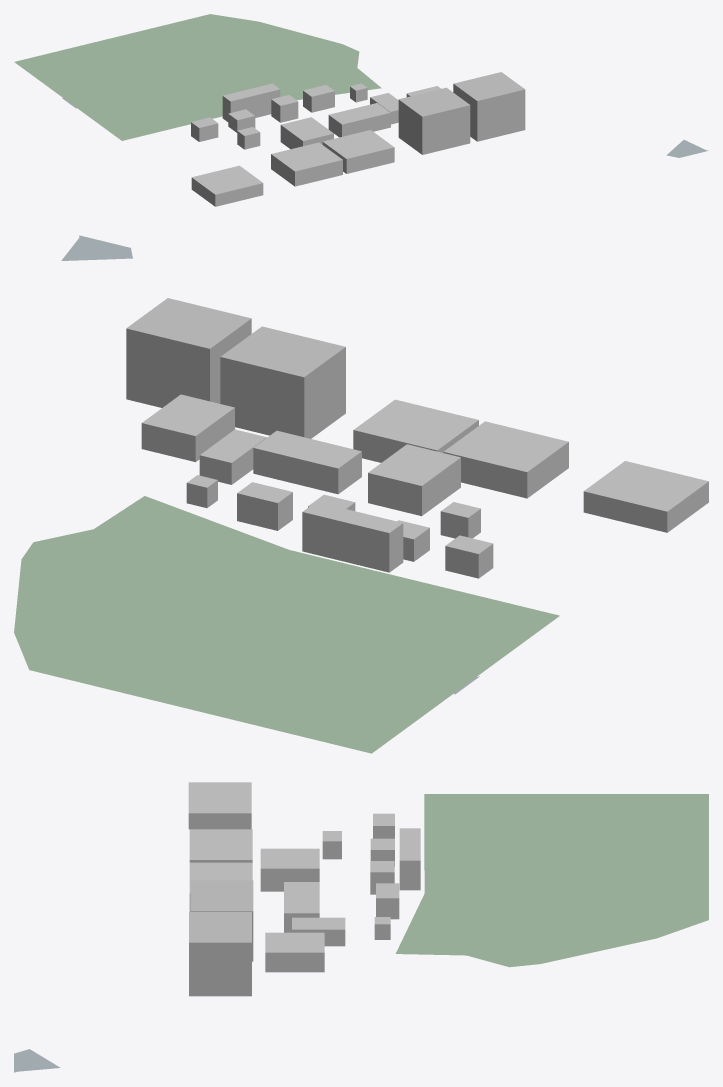
The model's file is 130_78_mid.glb.
The picture shows the model from 3 angles, top to bottom: view 1: azimuth 30°, elevation 25°; view 2: azimuth 150°, elevation 25°; view 3: azimuth 270°, elevation 25°; orthographic projection. The views are drawn at different scales.
Bounding box in the file's own units: 472 × 43.64 × 500.
